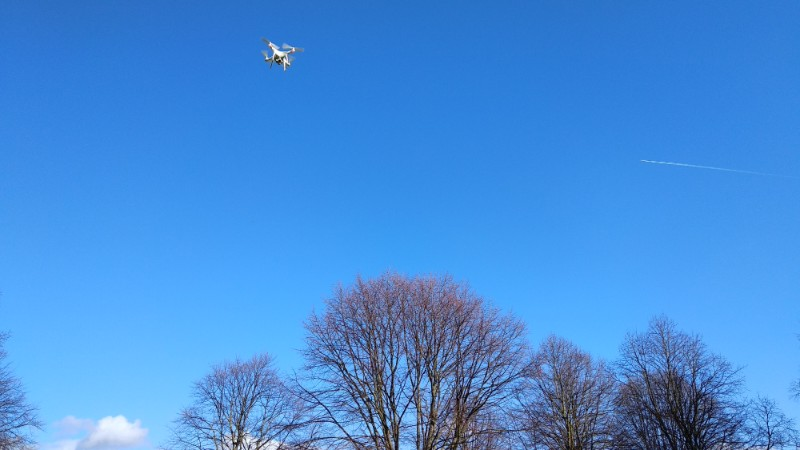drone: (256, 37, 304, 74)
